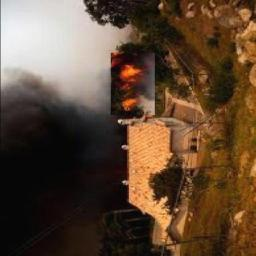Heavy smoke: (1, 70, 123, 252)
Small fire: (115, 53, 156, 120)
